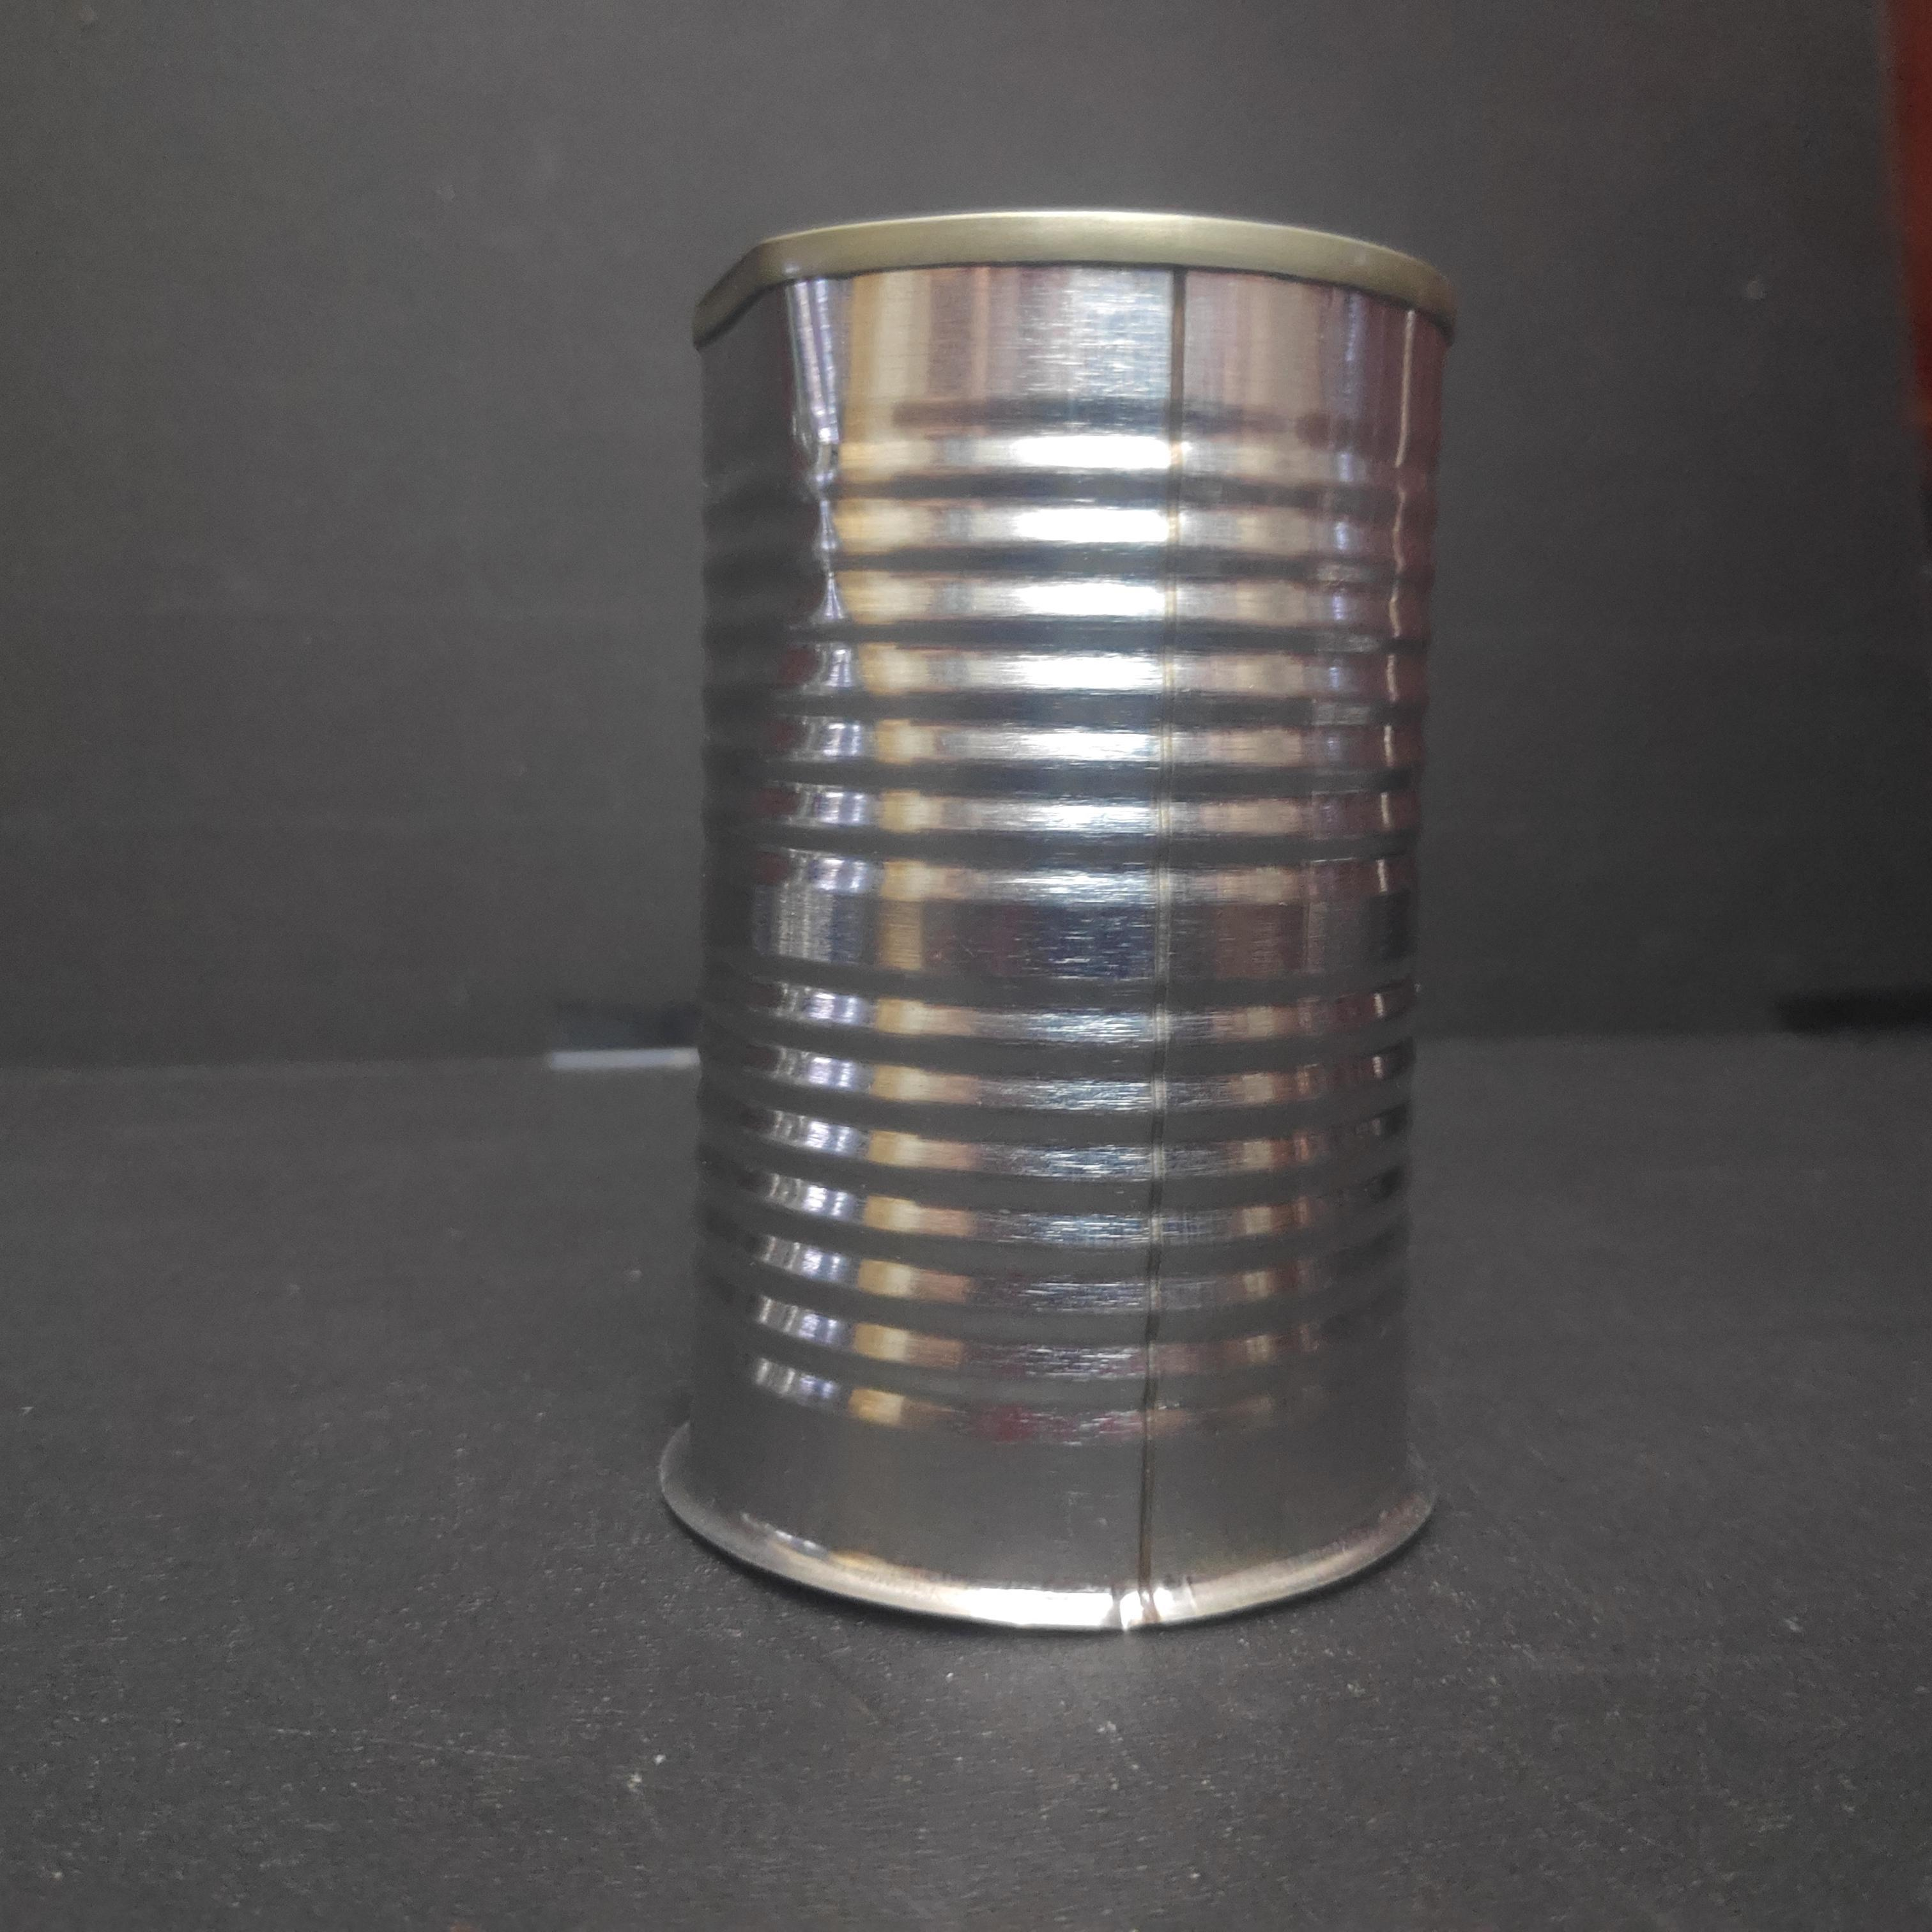Dented: (658, 189, 1460, 1651)
